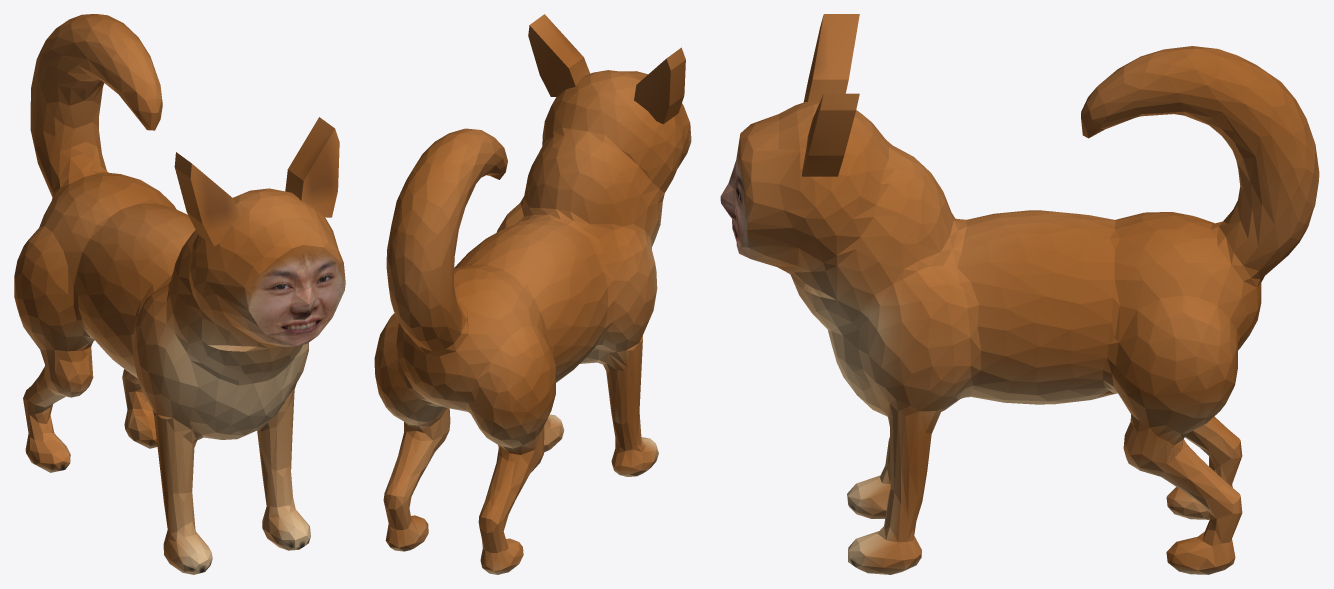
File: Dog.glb
3 views of the same model, side by side, from view 1: azimuth 30°, elevation 25°; view 2: azimuth 150°, elevation 25°; view 3: azimuth 270°, elevation 25° (orthographic). The views are drawn at different scales.
Visible parts, largest first — view 1: Dog_LowPoly; view 2: Dog_LowPoly; view 3: Dog_LowPoly.
Part boxes in pixels (<box>): Dog_LowPoly: <box>14,14,345,574</box>; Dog_LowPoly: <box>374,14,691,574</box>; Dog_LowPoly: <box>720,14,1319,574</box>.
Bounding box in the file's own units: 0.4845 × 1.17 × 1.28.
Materials: 1 (1 with a texture image).
